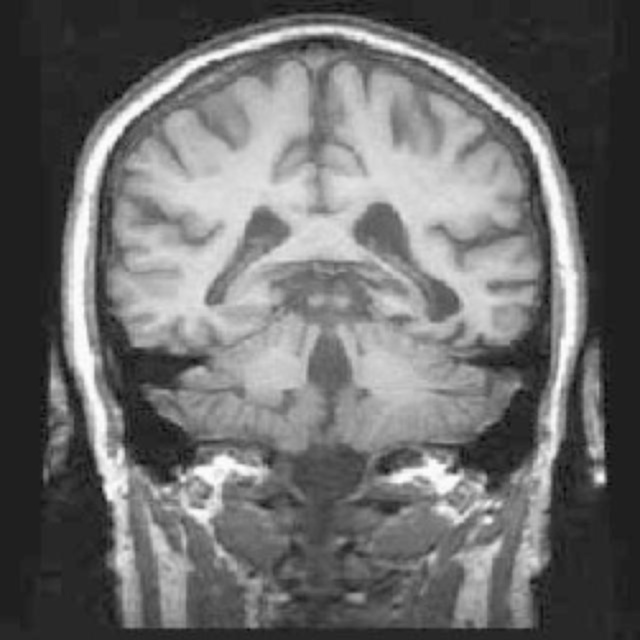glioma tumor: (125, 82, 502, 460)
